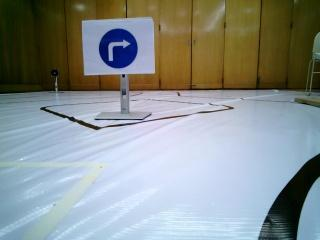right: (88, 30, 153, 74)
